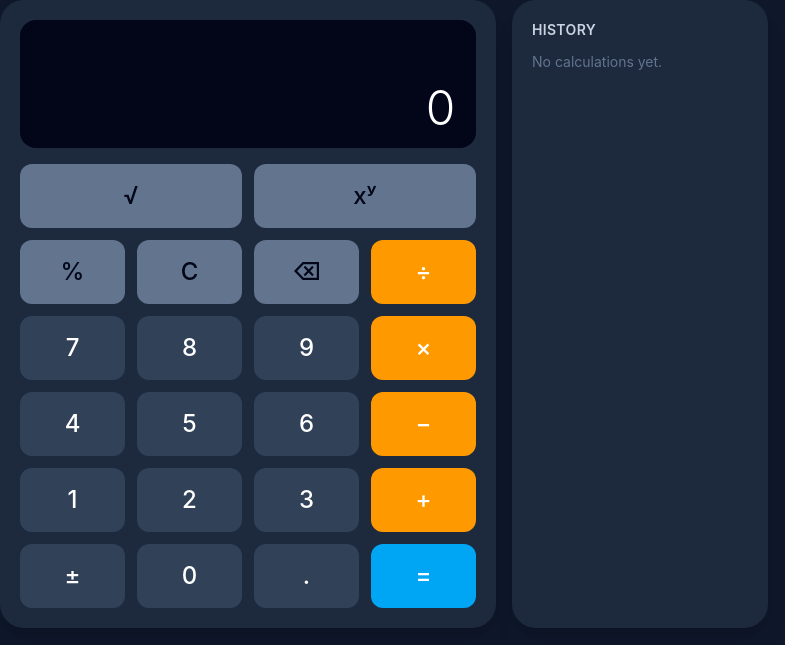
Test: Calculator › shows the pending expression and highlights the operator
The image size is (785, 645).
Click the button "8" at (190, 348), box [137,316,242,380]
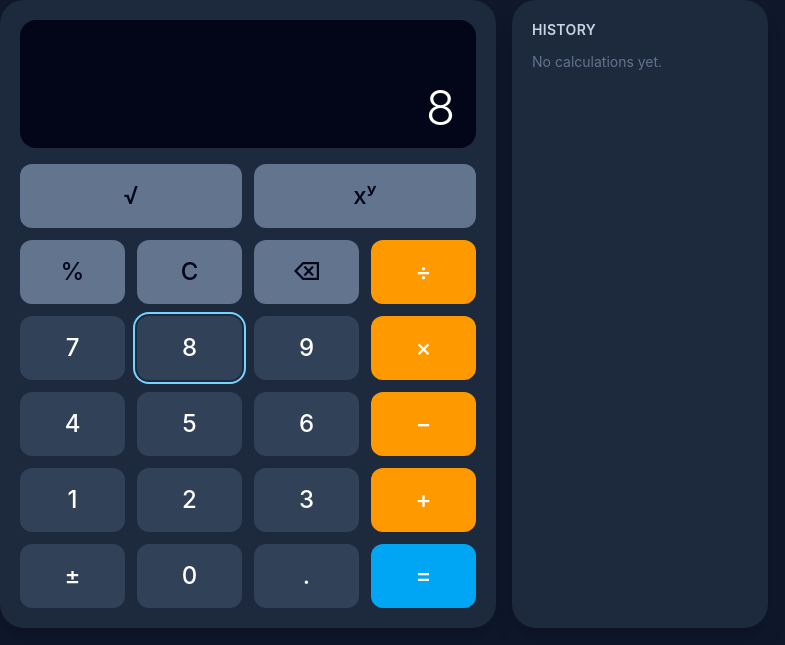
Click the button named "divide" at (424, 272), box [371,240,476,304]
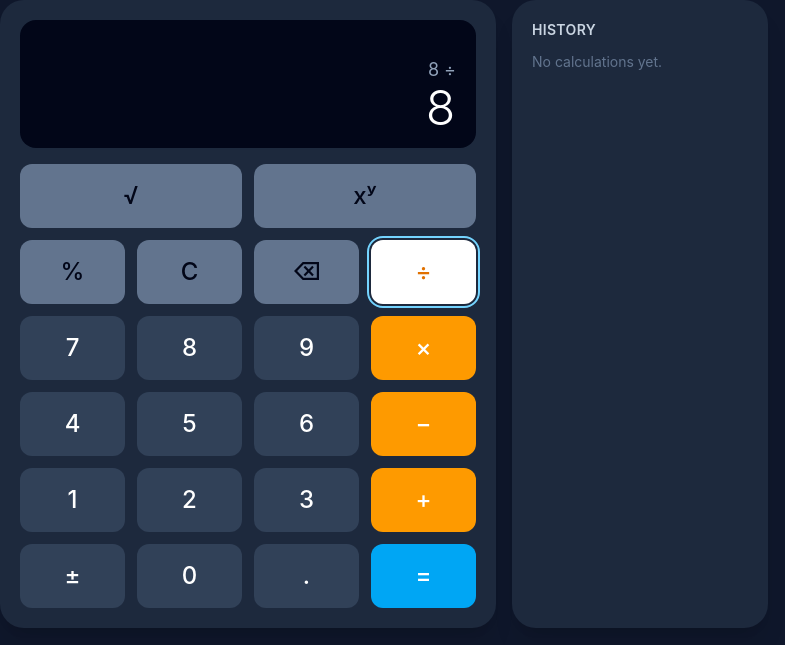
Now the text with test id "expression" reads "8 ÷", box [428,59,456,80]
